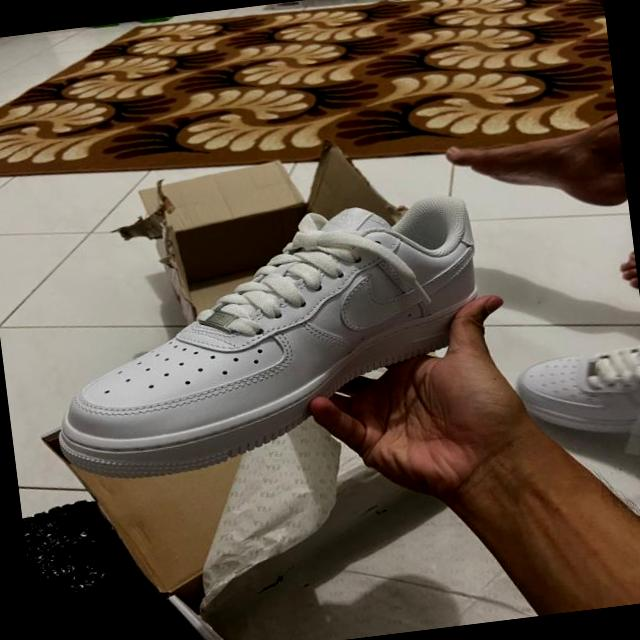nike_original_airforce: (31, 189, 512, 487)
